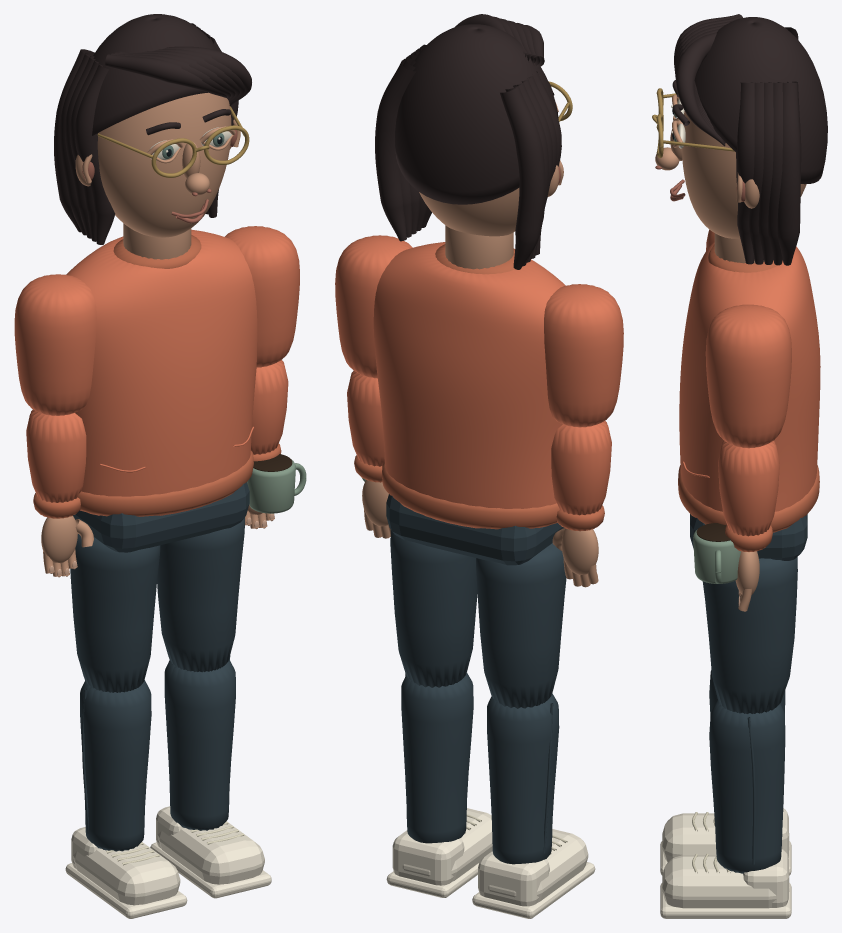
Rendered from ada.glb.
The picture shows the model from 3 angles, left to right: view 1: azimuth 30°, elevation 25°; view 2: azimuth 150°, elevation 25°; view 3: azimuth 270°, elevation 25°; orthographic projection.
Parts seen in each view (by area): view 1: Ada_Sweater, Ada_Brow, Ada_Face, Ada_Upper trouserL, Ada_Lower trouserL, Ada_Lower trouserR, Ada_Upper trouserR, Ada_SleeveL, Ada_ShoeL, Ada_SleeveR, Ada_ShoeR, Ada_Pelvis (+8 smaller); view 2: Ada_Sweater, Ada_Brow, Ada_Upper trouserL, Ada_Upper trouserR, Ada_Lower trouserR, Ada_Lower trouserL, Ada_SleeveL, Ada_ShoeL, Ada_SleeveR, Ada_ShoeR, Ada_Pelvis, Ada_Long sleeveL (+7 smaller); view 3: Ada_Brow, Ada_Sweater, Ada_Lower trouserR, Ada_Upper trouserR, Ada_SleeveR, Ada_ShoeR, Ada_Face, Ada_Long sleeveR, Ada_ShoeL, Ada_Hem, Ada_Ceramic cup, Ada_Pelvis (+5 smaller).
Boxes of the visible parts, x1=… form: Ada_Sweater: x1=66, y1=229, x2=257, y2=515; Ada_Brow: x1=54, y1=14, x2=251, y2=244; Ada_Face: x1=75, y1=92, x2=240, y2=237; Ada_Upper trouserL: x1=70, y1=534, x2=160, y2=692; Ada_Lower trouserL: x1=80, y1=680, x2=151, y2=851; Ada_Lower trouserR: x1=164, y1=655, x2=235, y2=830; Ada_Upper trouserR: x1=157, y1=517, x2=244, y2=672; Ada_SleeveL: x1=14, y1=274, x2=96, y2=415; Ada_ShoeL: x1=65, y1=827, x2=187, y2=918; Ada_SleeveR: x1=225, y1=226, x2=299, y2=367; Ada_ShoeR: x1=150, y1=806, x2=271, y2=898; Ada_Pelvis: x1=73, y1=482, x2=249, y2=552; Ada_Sweater: x1=373, y1=242, x2=565, y2=528; Ada_Brow: x1=375, y1=14, x2=561, y2=269; Ada_Upper trouserL: x1=476, y1=543, x2=566, y2=708; Ada_Upper trouserR: x1=390, y1=530, x2=477, y2=687; Ada_Lower trouserR: x1=401, y1=672, x2=473, y2=843; Ada_Lower trouserL: x1=487, y1=693, x2=559, y2=864; Ada_SleeveL: x1=544, y1=284, x2=623, y2=427; Ada_ShoeL: x1=472, y1=829, x2=595, y2=918; Ada_SleeveR: x1=335, y1=235, x2=412, y2=378; Ada_ShoeR: x1=386, y1=808, x2=492, y2=897; Ada_Pelvis: x1=386, y1=494, x2=563, y2=565; Ada_Long sleeveL: x1=551, y1=421, x2=611, y2=515; Ada_Brow: x1=672, y1=14, x2=827, y2=265; Ada_Sweater: x1=679, y1=242, x2=820, y2=511; Ada_Lower trouserR: x1=709, y1=700, x2=785, y2=873; Ada_Upper trouserR: x1=702, y1=557, x2=797, y2=713; Ada_SleeveR: x1=705, y1=304, x2=791, y2=448; Ada_ShoeR: x1=660, y1=849, x2=791, y2=918; Ada_Face: x1=655, y1=111, x2=806, y2=238; Ada_Long sleeveR: x1=718, y1=440, x2=779, y2=536; Ada_ShoeL: x1=660, y1=808, x2=791, y2=875; Ada_Hem: x1=678, y1=244, x2=819, y2=532; Ada_Ceramic cup: x1=693, y1=529, x2=740, y2=583; Ada_Pelvis: x1=690, y1=514, x2=807, y2=560.
Size of the model in its own units: 0.6819 by 2.02 by 0.3737.
